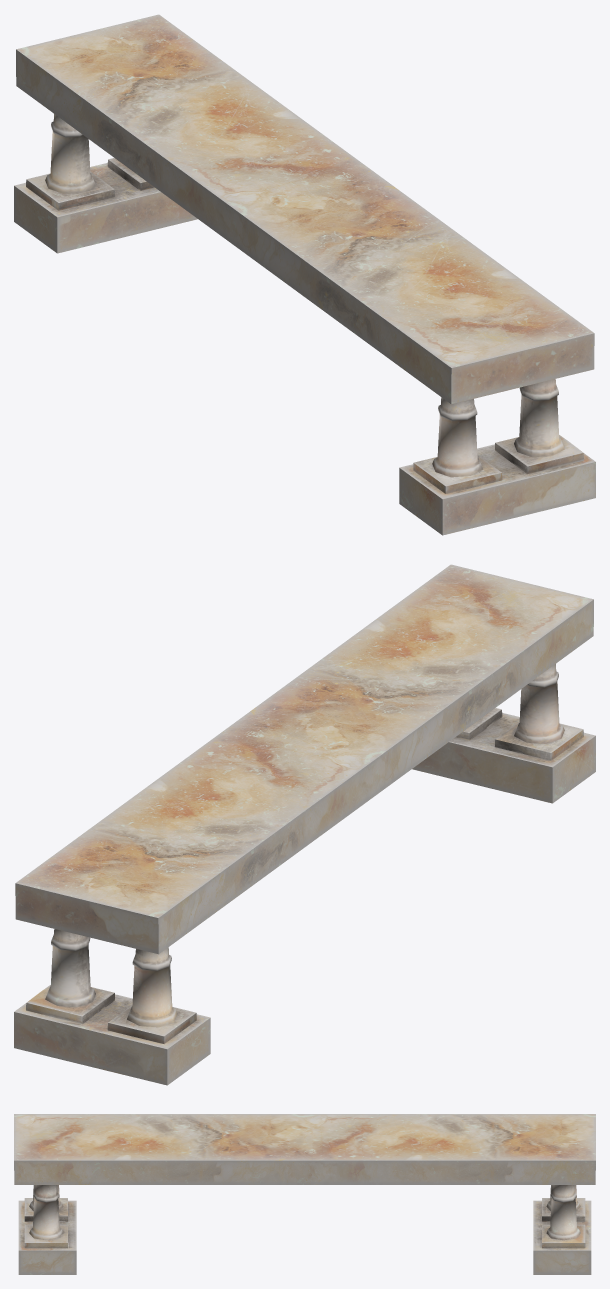
Rendered from bench.glb.
3 views of the same model, one above another, from view 1: azimuth 30°, elevation 25°; view 2: azimuth 150°, elevation 25°; view 3: azimuth 270°, elevation 25° (orthographic). The views are drawn at different scales.
Parts seen in each view (by area): view 1: Plane.007; view 2: Plane.007; view 3: Plane.007.
Boxes of the visible parts, box(x1,y1,x2,y2) form: Plane.007: box(14, 14, 595, 535); Plane.007: box(14, 564, 595, 1085); Plane.007: box(14, 1114, 595, 1274).
Size of the model in its own units: 0.3772 by 0.396 by 1.85.
Materials: 1 (1 with a texture image).
